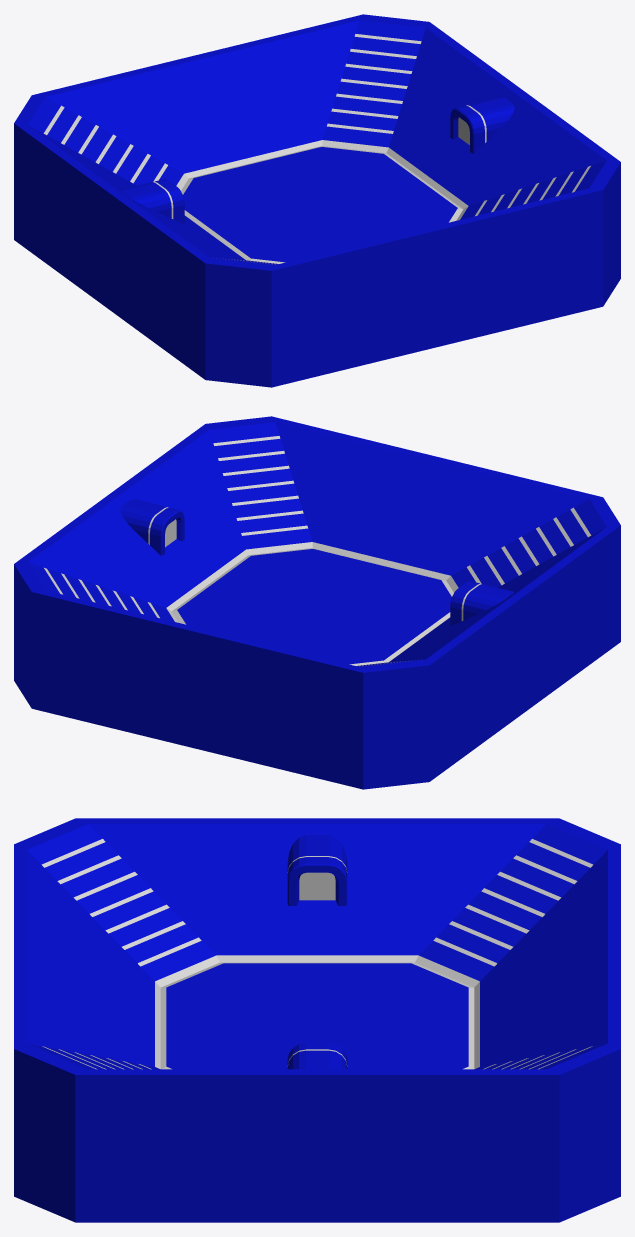
File: Table.fbx
3 renders of one model, top to bottom at view 1: azimuth 30°, elevation 25°; view 2: azimuth 150°, elevation 25°; view 3: azimuth 270°, elevation 25°, orthographic. The views are drawn at different scales.
Parts seen in each view (by area): view 1: Cube; view 2: Cube; view 3: Cube.
Boxes of the visible parts, x1,y1,x2,y2 form: Cube: (14, 14, 620, 387); Cube: (14, 416, 620, 789); Cube: (14, 818, 620, 1222).
Bounding box in the file's own units: 1536 × 412 × 1536.
